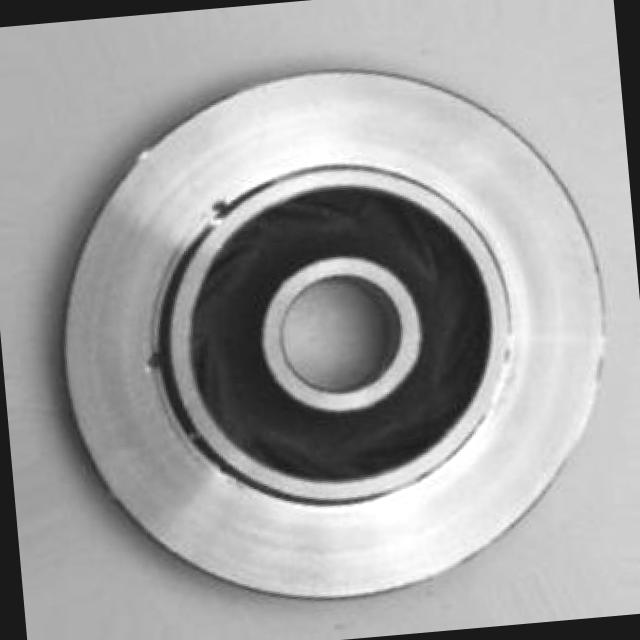Defect: (202, 197, 229, 221)
